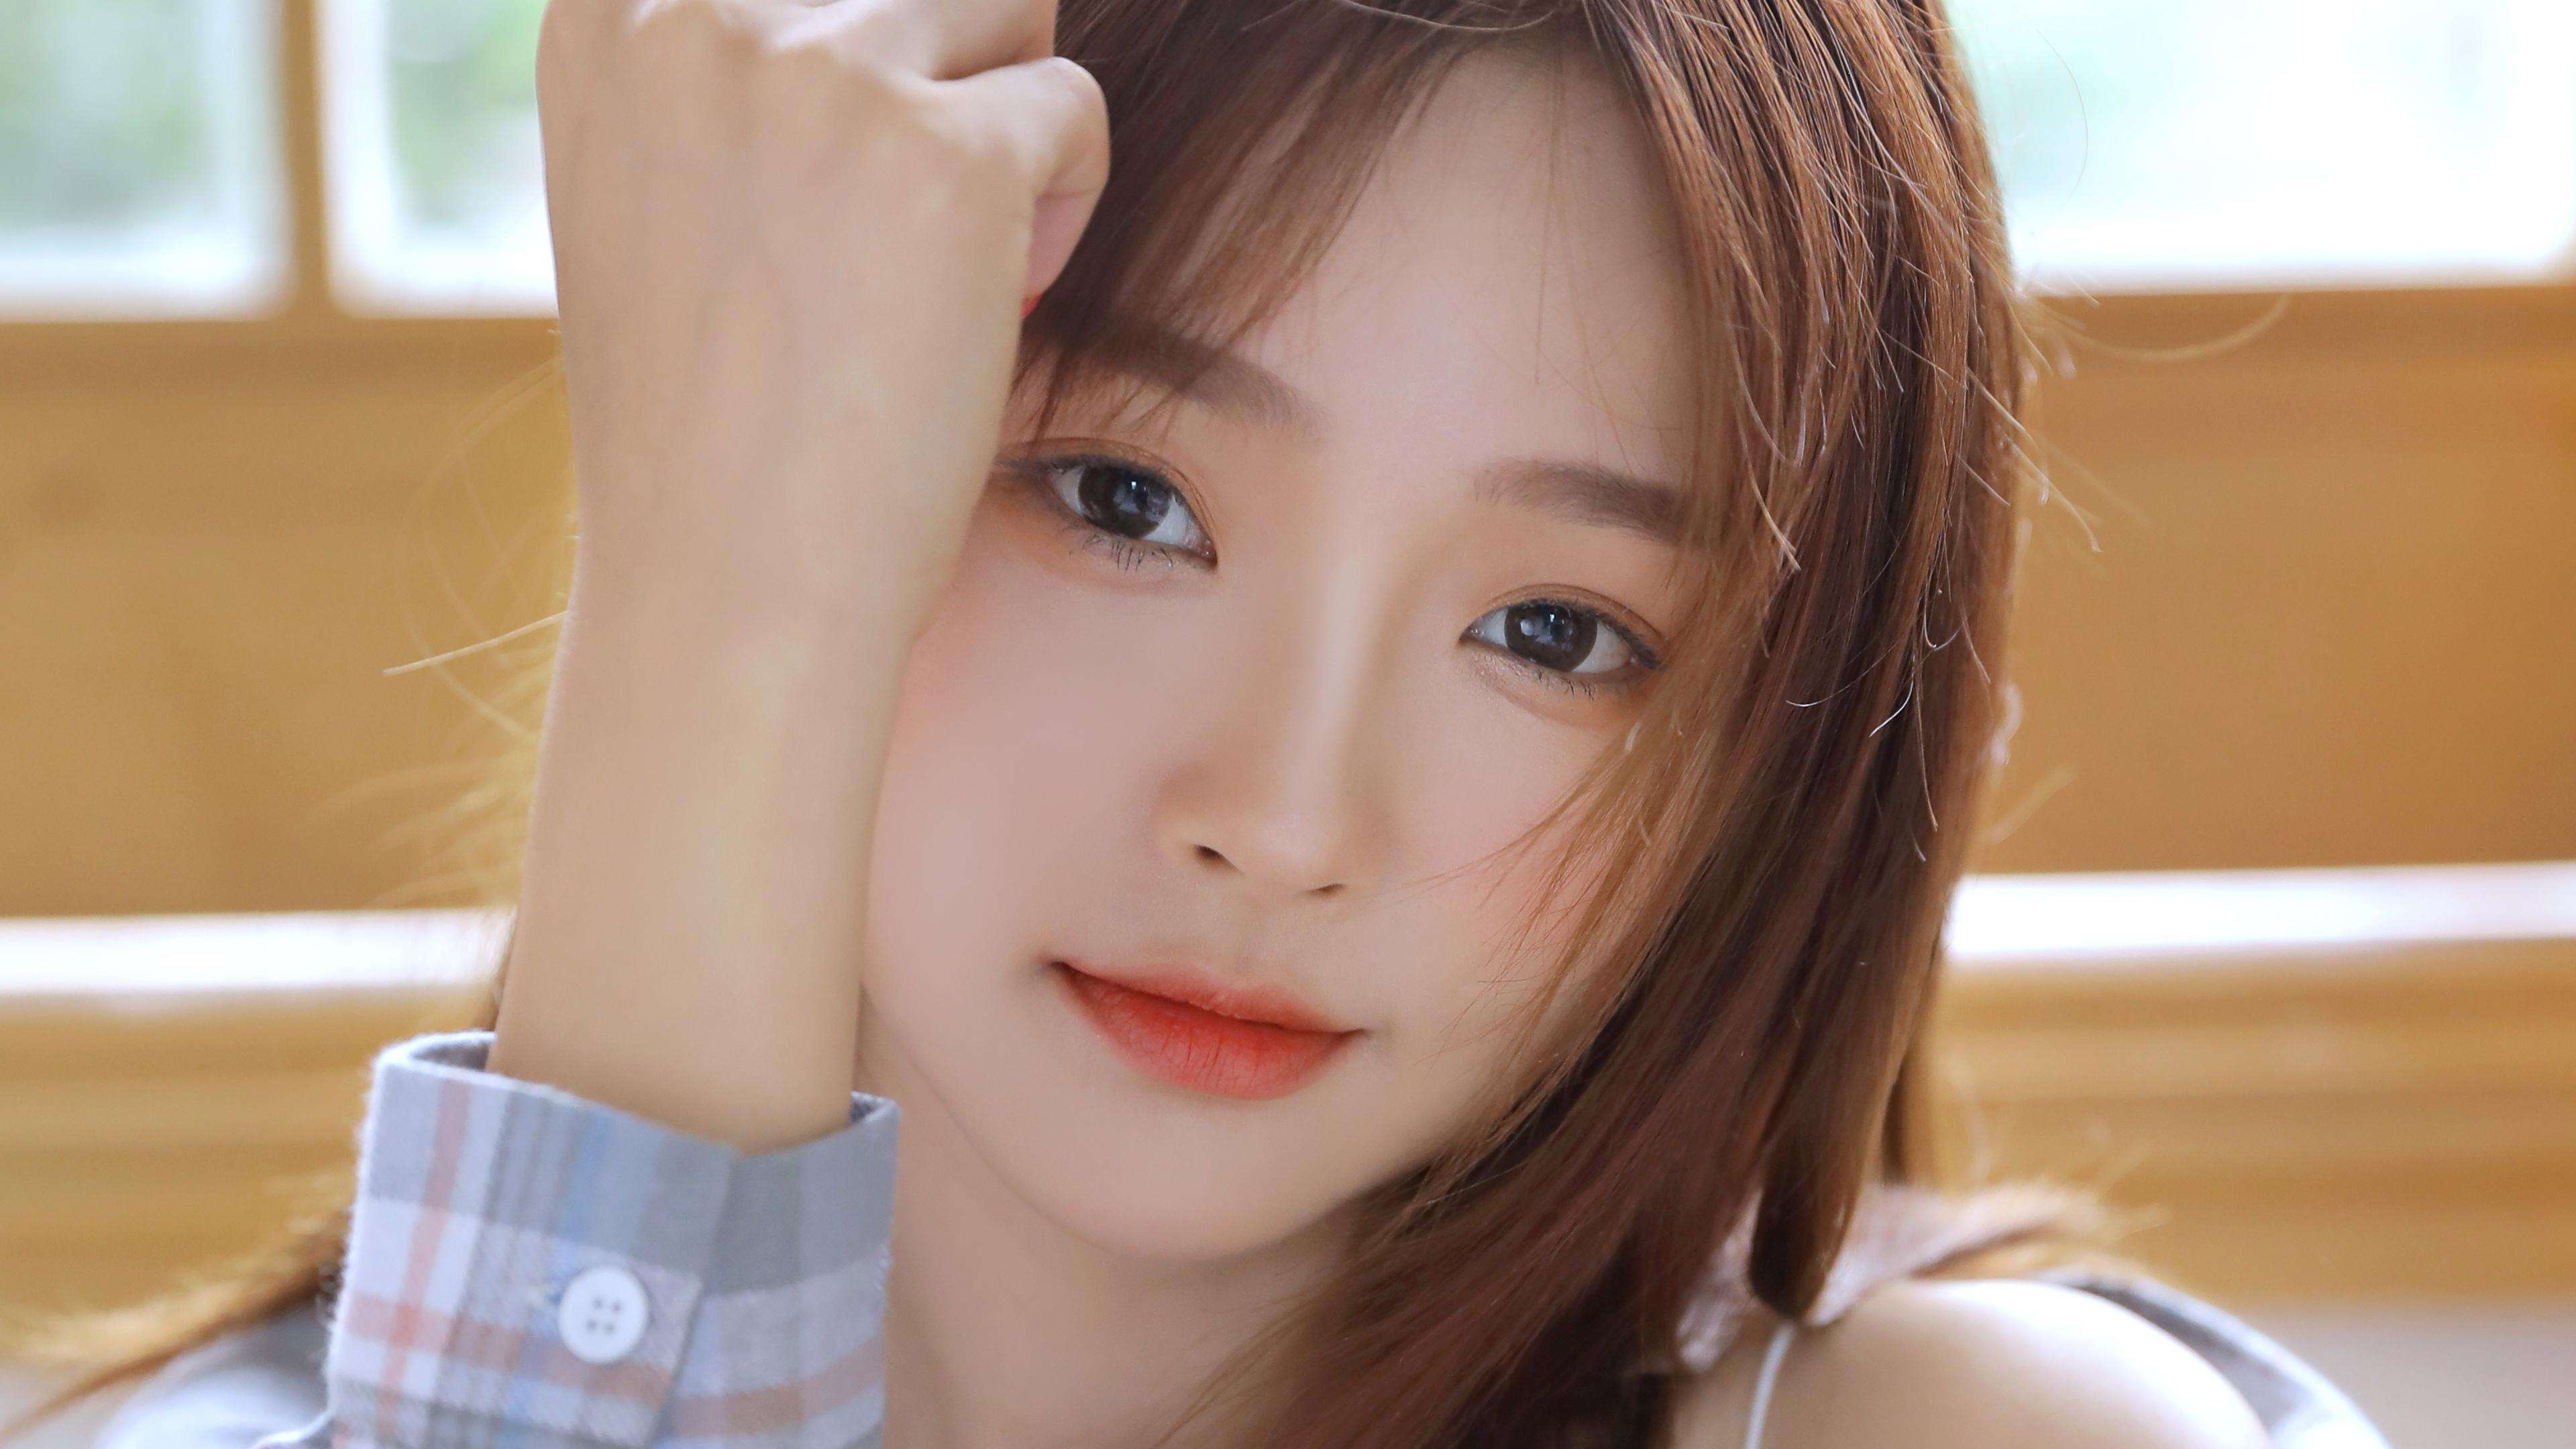person: (239, 31, 2379, 1449)
